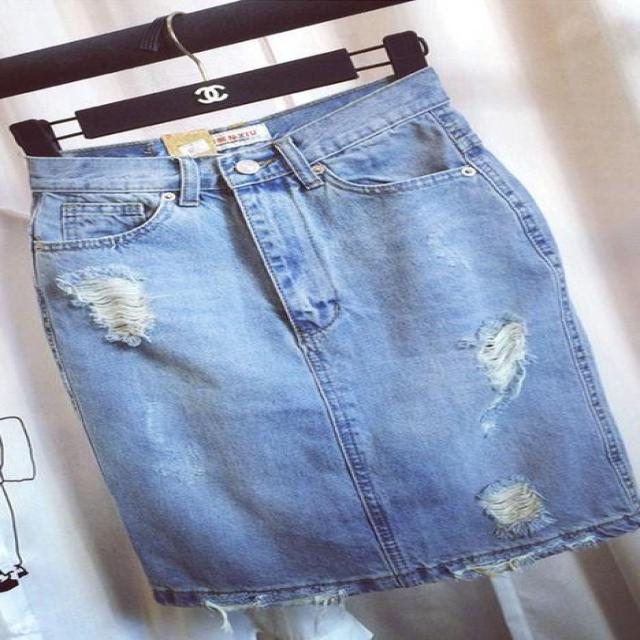skirt: (29, 69, 632, 605)
